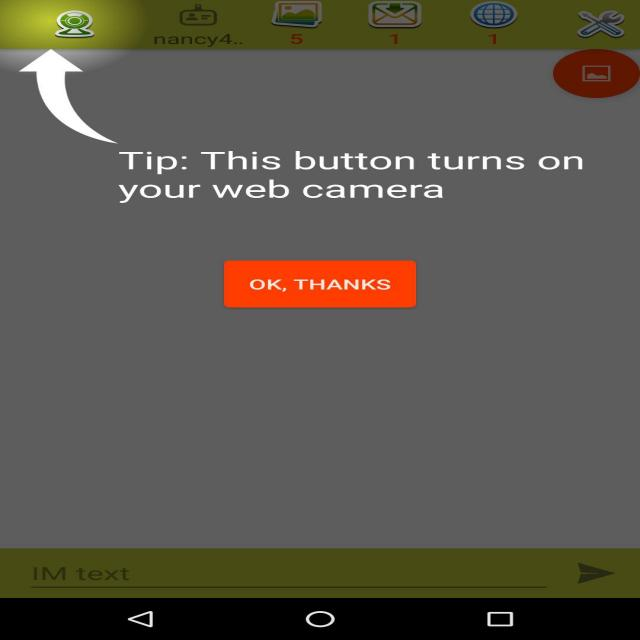button: (200, 253, 474, 314)
icon: (515, 42, 640, 123), (4, 2, 127, 48), (154, 12, 250, 62), (256, 2, 349, 51), (467, 0, 553, 47), (362, 2, 442, 51), (575, 3, 640, 48)
image: (8, 51, 136, 162)
text: (114, 145, 640, 208)
